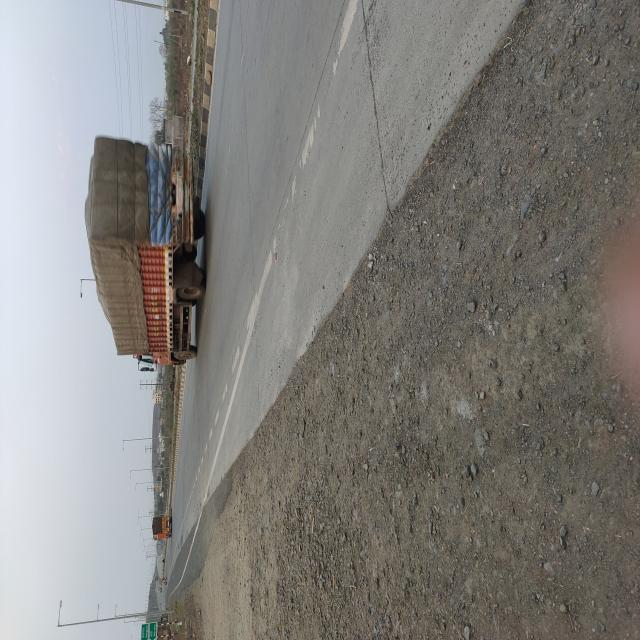Truck: (200, 120, 394, 272)
